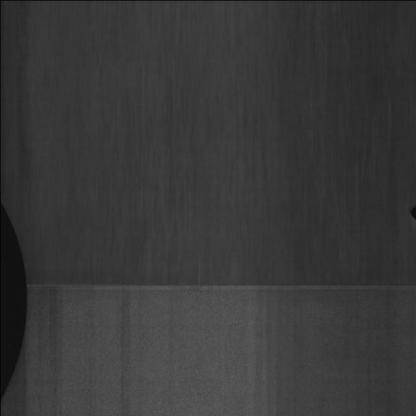crescent_gap: (0, 192, 47, 416)
welding_line: (20, 271, 414, 298)
